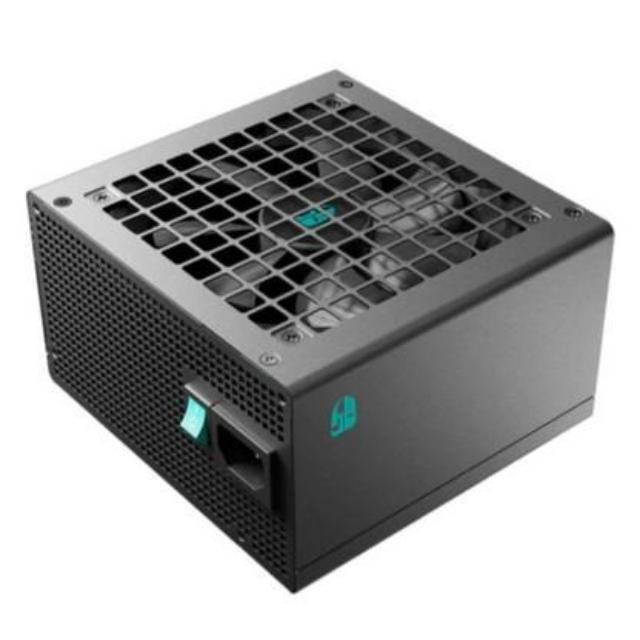PSU: (24, 59, 618, 608)
